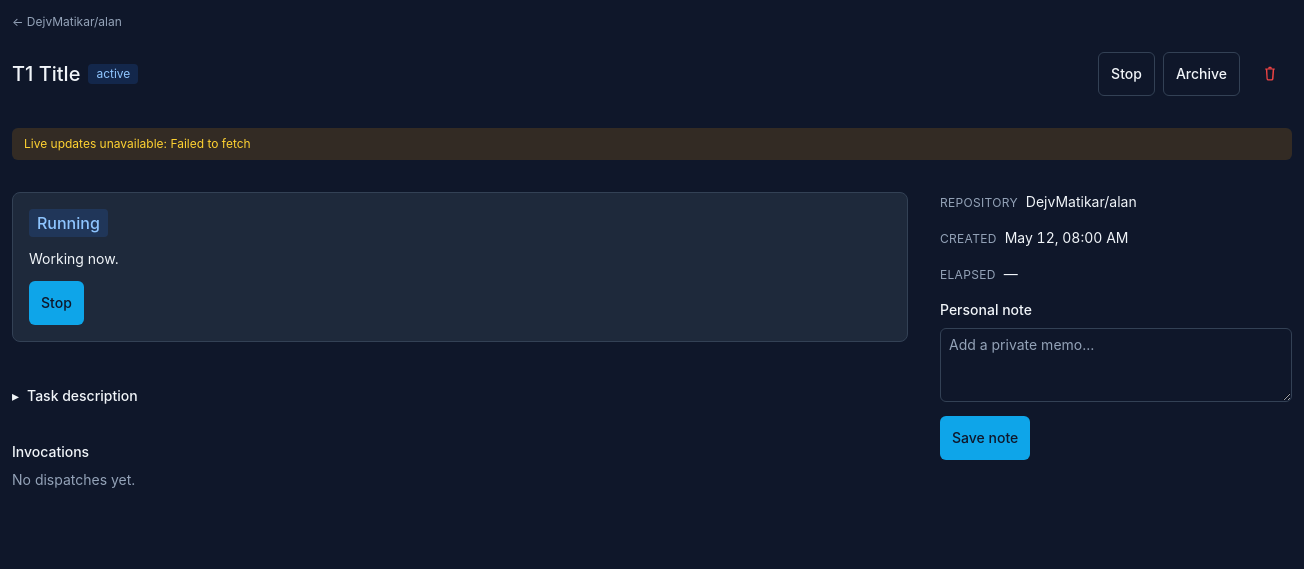
Test case: Workspace detail › stringifies non-Error rejections from stopWorkspace
The width and height of the screenshot is (1304, 569).
Click the button with test id "stop-button" at x=1126, y=74, box x1=1098 y1=52 x2=1155 y2=96
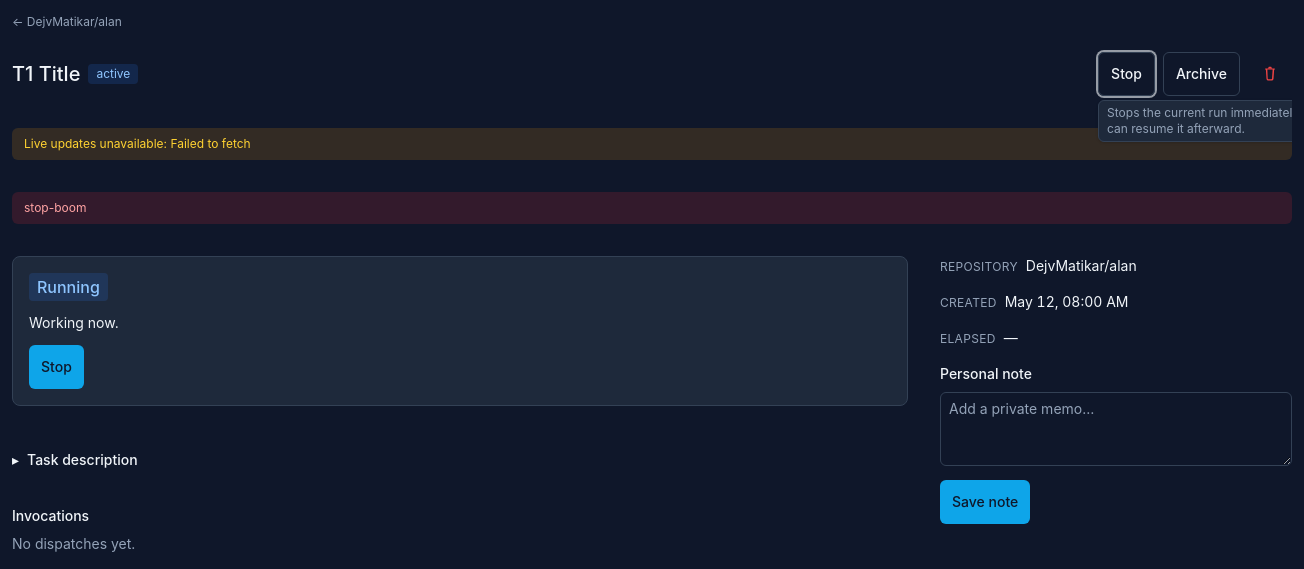
expect the message with test id "stop-resume-error" reads "stop-boom": met, box x1=24 y1=200 x2=86 y2=215
